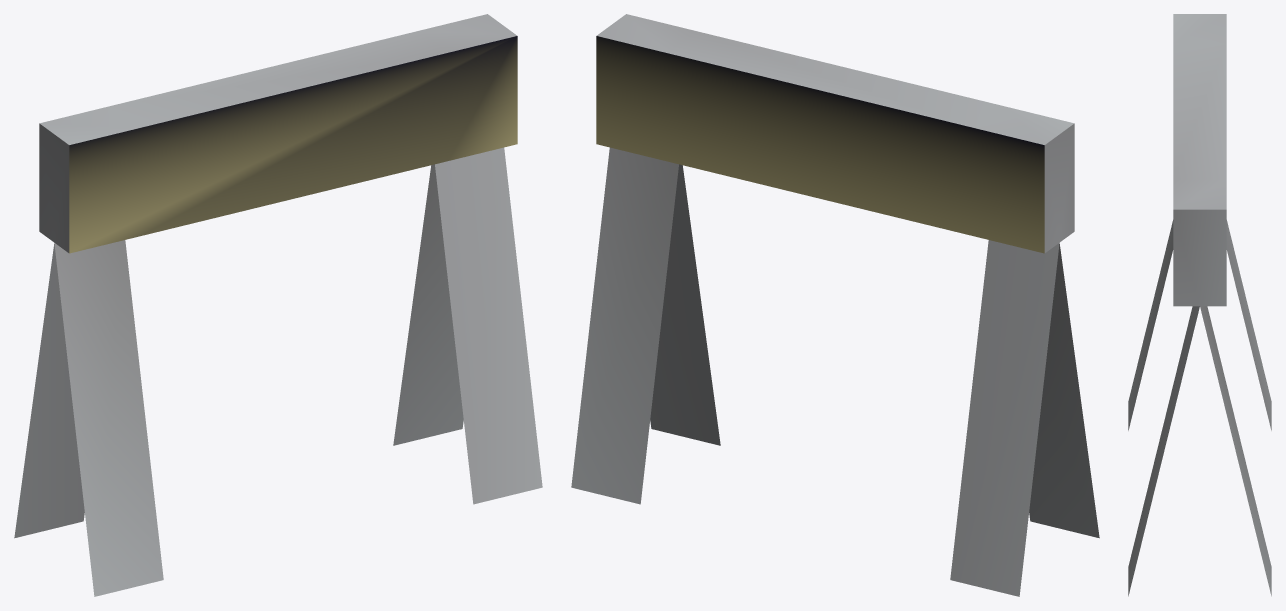
Rendered from detail-barrier-type-a.glb.
3 renders of one model, left to right at view 1: azimuth 30°, elevation 25°; view 2: azimuth 150°, elevation 25°; view 3: azimuth 270°, elevation 25°, orthographic. The views are drawn at different scales.
Visible parts, largest first — view 1: detail-barrier-type-a; view 2: detail-barrier-type-a; view 3: detail-barrier-type-a.
Boxes of the visible parts, bbox=[...] form: detail-barrier-type-a: bbox=[14, 14, 542, 596]; detail-barrier-type-a: bbox=[571, 14, 1099, 596]; detail-barrier-type-a: bbox=[1128, 14, 1271, 596].
Size of the model in its own units: 0.433 by 0.4 by 0.134.
